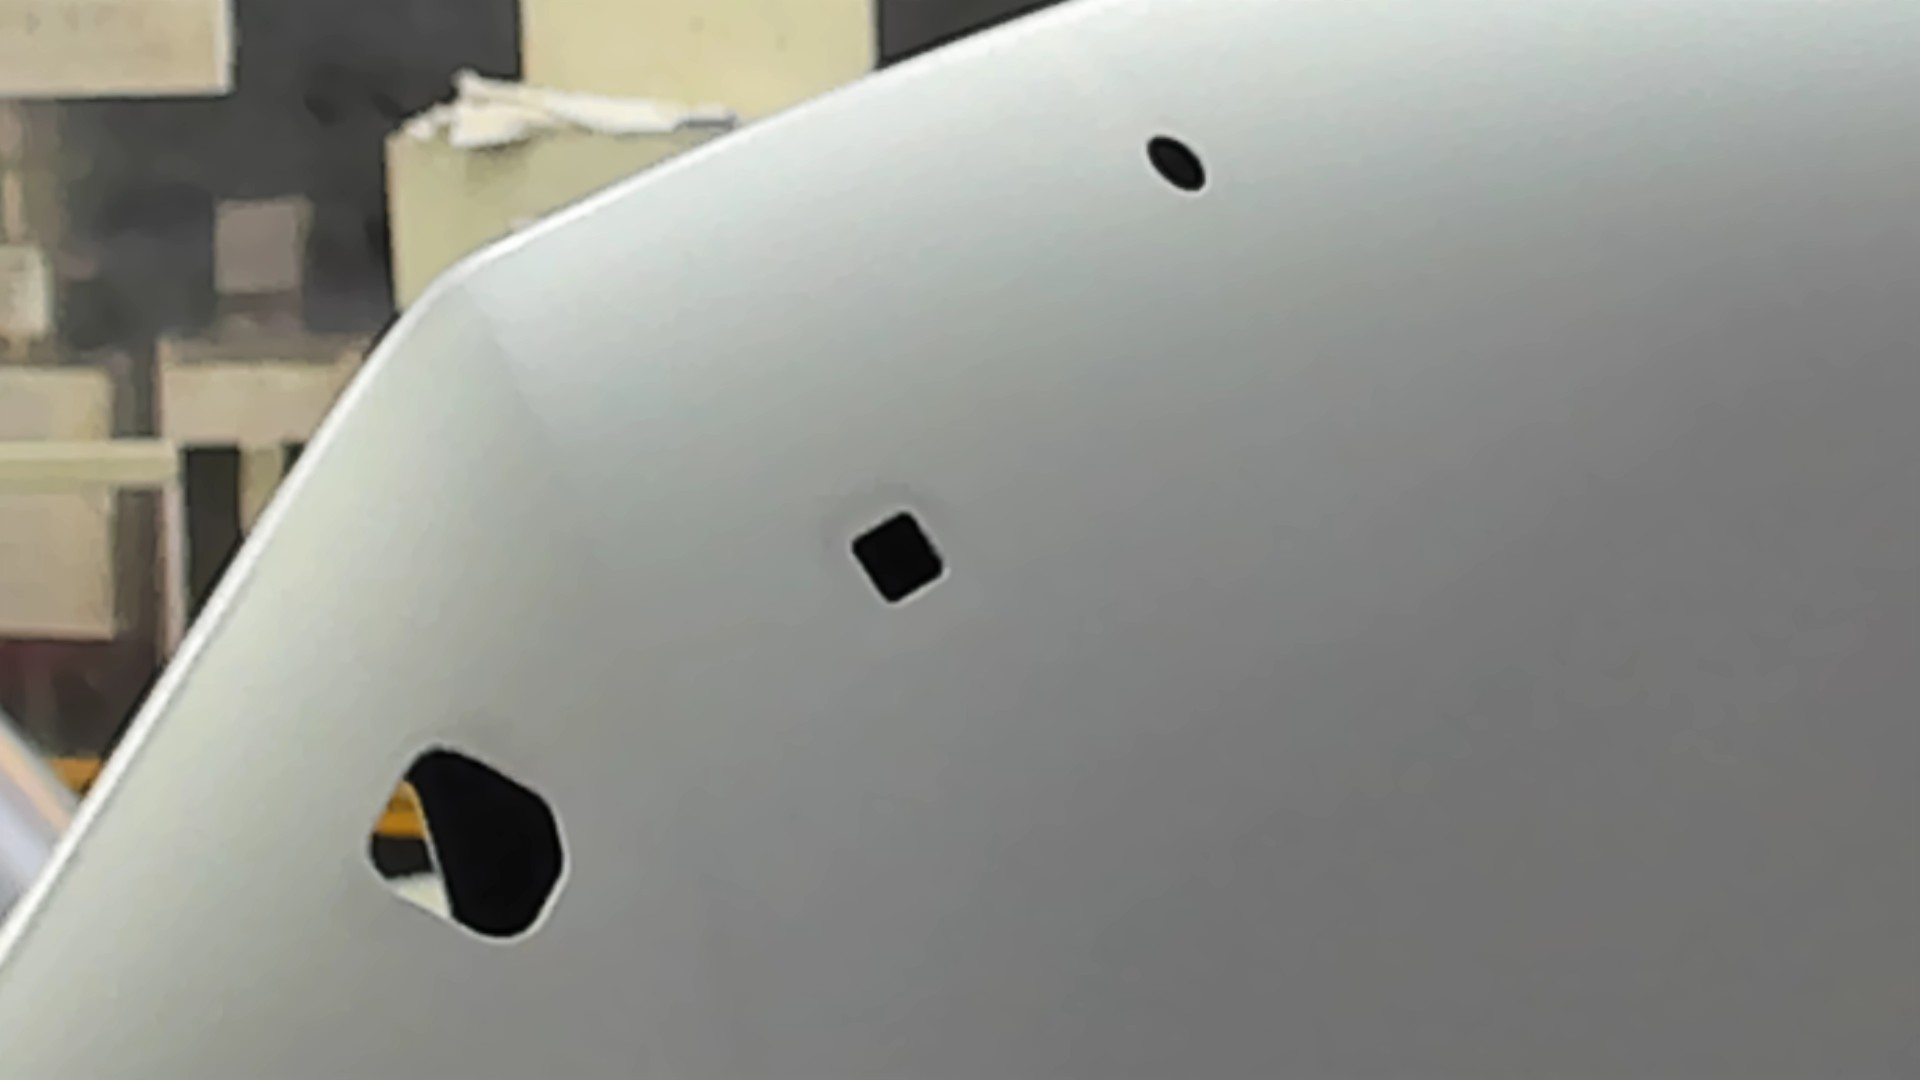chico: (1142, 131, 1209, 196)
grande: (364, 742, 578, 951)
mediano: (843, 504, 952, 613)
